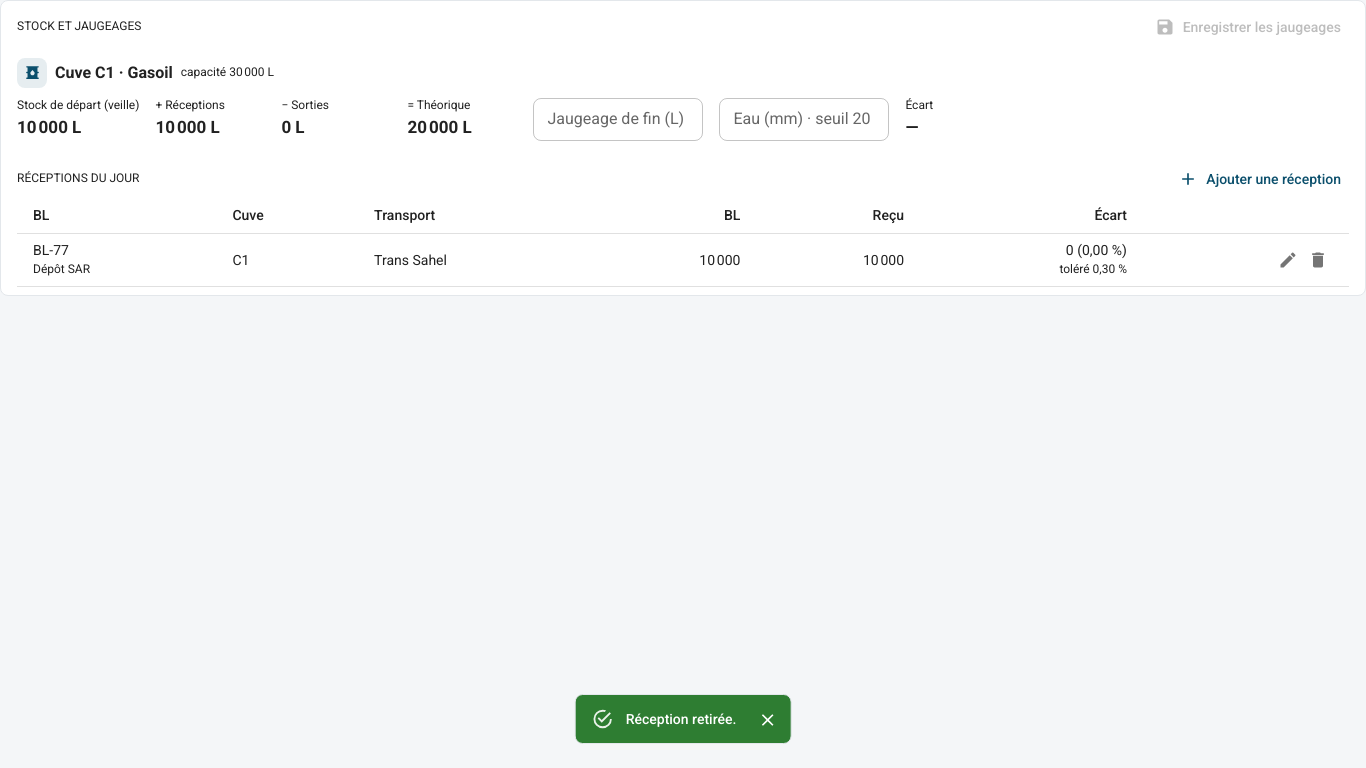
Test: réceptions de la journée › corrige une réception enregistrée sans la ressaisir
The width and height of the screenshot is (1366, 768).
Click the button named "Corriger le BL BL-77".
click(1288, 260)  # box [1273,245,1303,275]
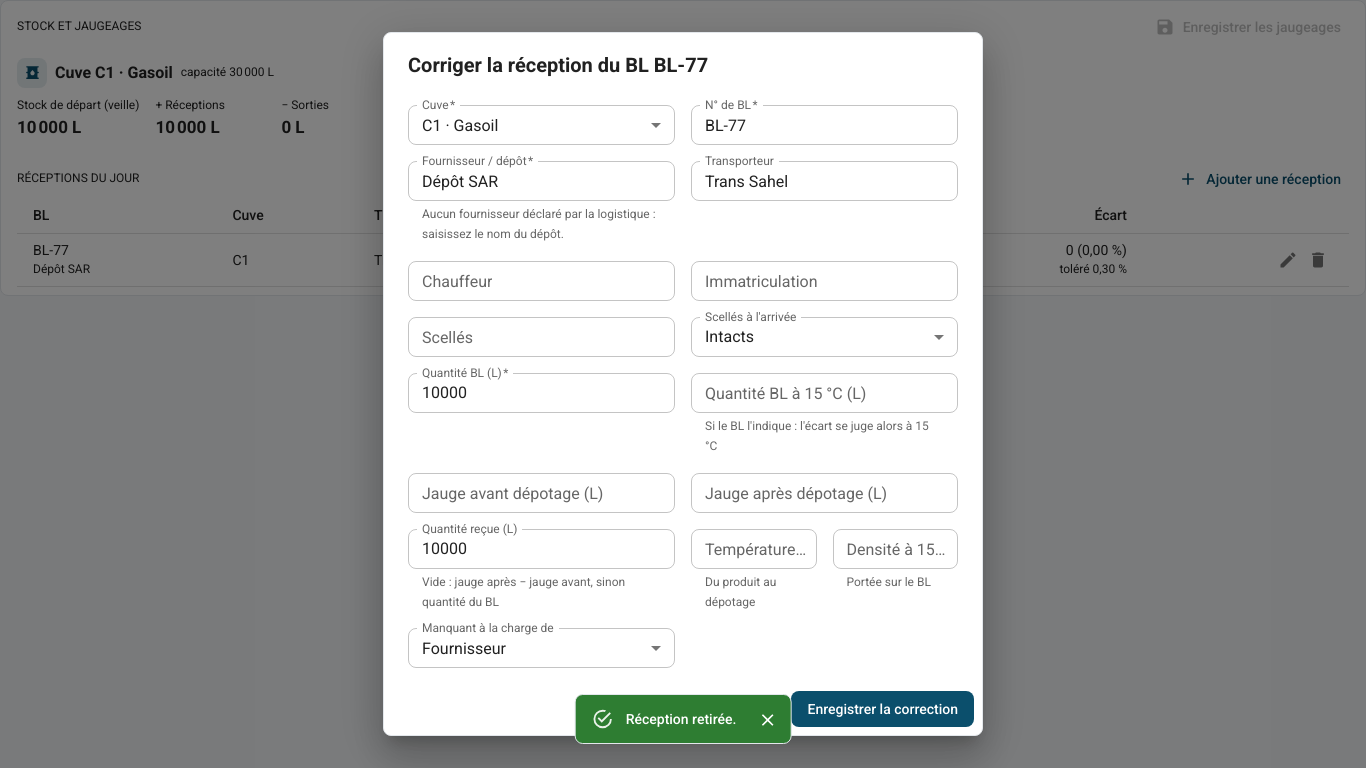
expect the field labelled "N° de BL *" holds "BL-77": met, box [691,105,958,145]
expect the field labelled "Fournisseur / dépôt *" holds "Dépôt SAR": met, box [408,161,675,201]
expect the field labelled "Transporteur" holds "Trans Sahel": met, box [691,161,958,201]
Replace the text in the field labelled "Quantité reçue (L)" with "9990" at (542, 549), box [408,529,675,569]
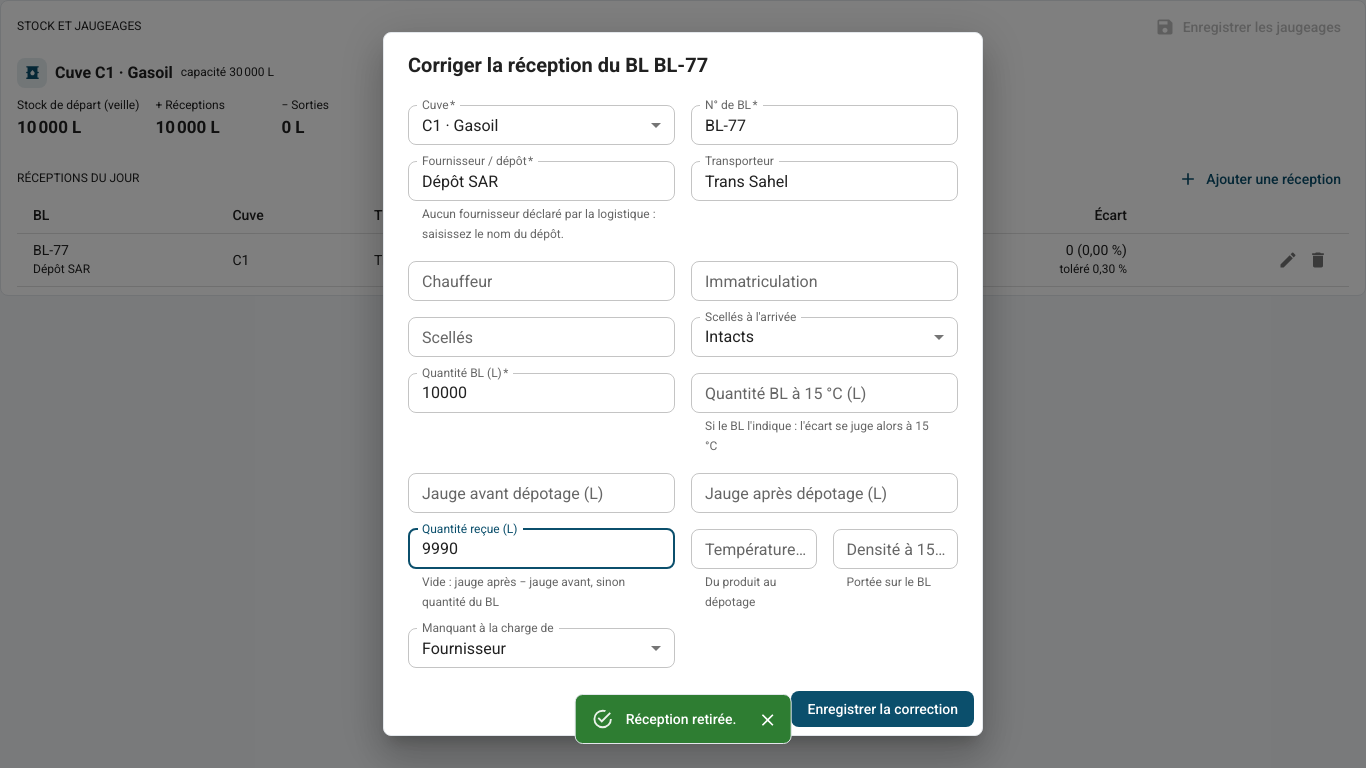
Click the button "Enregistrer la correction".
click(883, 709)  # box [792,690,974,727]
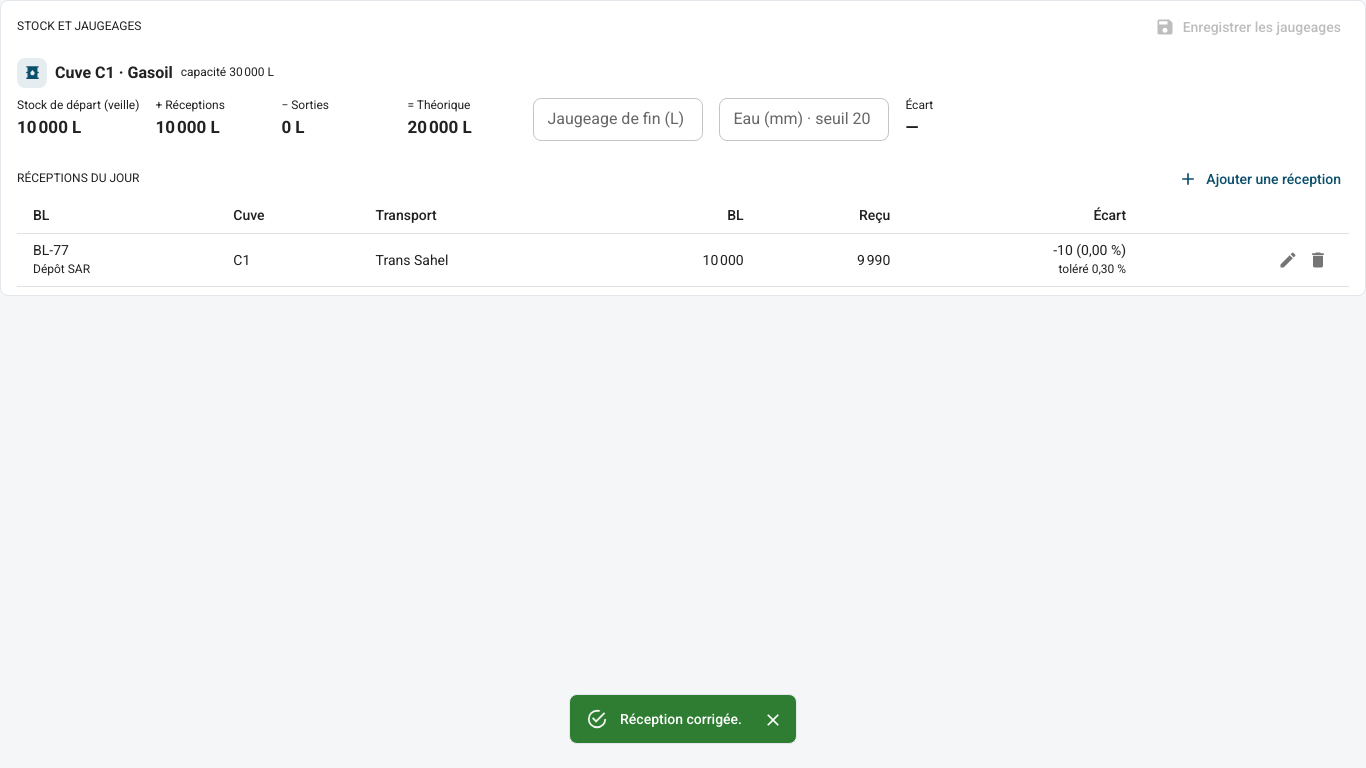
expect the dialog is gone: met
expect the text "Réception corrigée." is shown: met, box [620,711,742,727]
